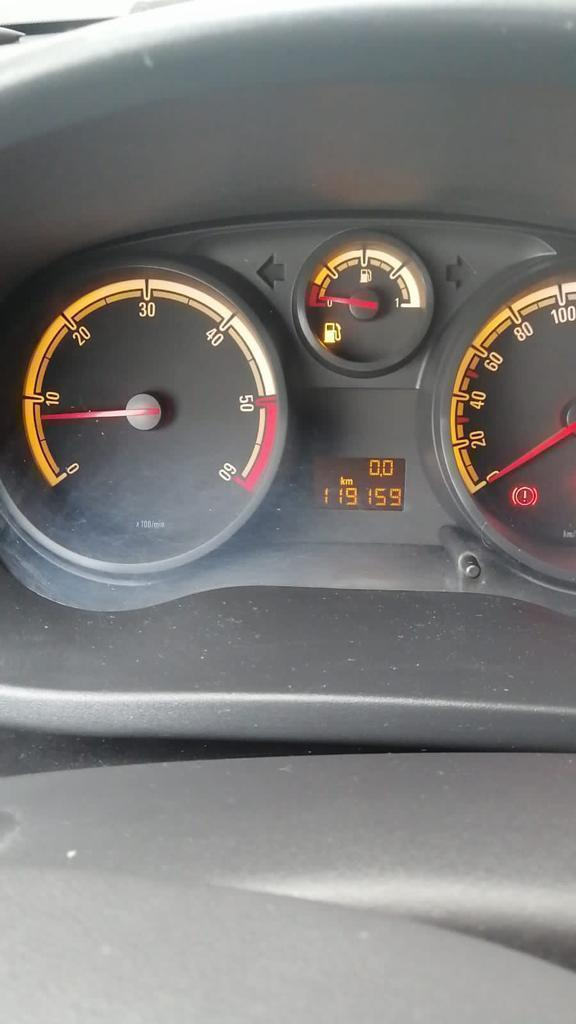,: (378, 472, 383, 478)
0: (382, 459, 394, 476), (368, 458, 379, 475)
1: (322, 486, 331, 506), (366, 485, 373, 507), (336, 486, 343, 507)
5: (374, 486, 386, 507)
9: (388, 485, 402, 508), (344, 487, 359, 507)
X: (346, 477, 354, 485), (339, 475, 345, 485)
odometer: (312, 455, 406, 512)
